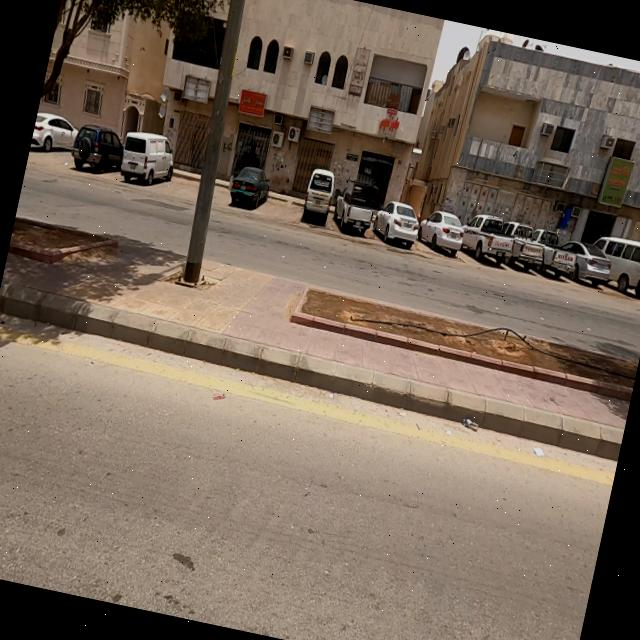Graffiti: (269, 158, 286, 176), (220, 138, 232, 156), (332, 174, 343, 188)
